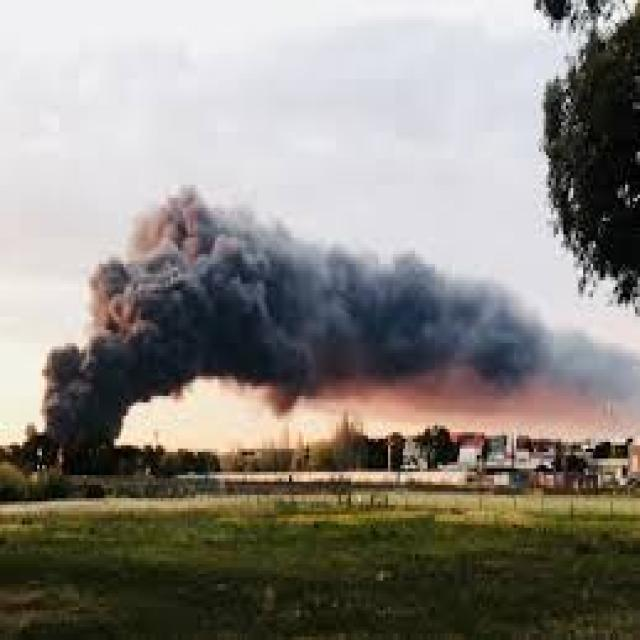Smoke: (39, 181, 554, 449)
